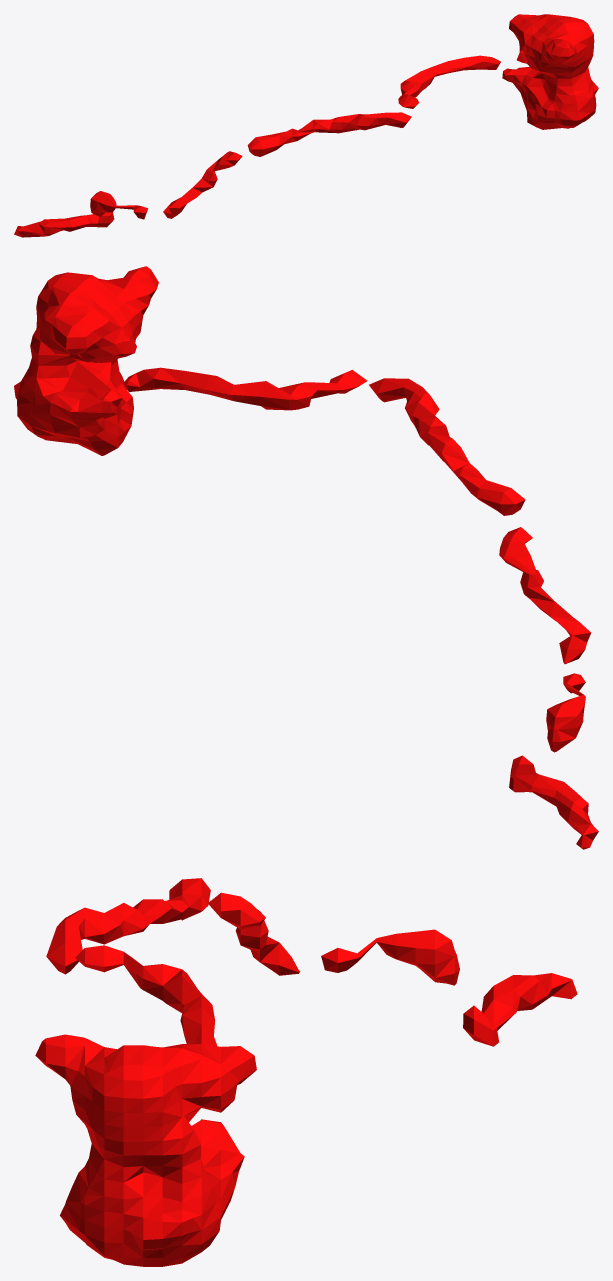
Rendered from pntA_coarse.dae.
3 renders of one model, top to bottom at view 1: azimuth 30°, elevation 25°; view 2: azimuth 150°, elevation 25°; view 3: azimuth 270°, elevation 25°, orthographic. The views are drawn at different scales.
Parts seen in each view (by area): view 1: pntA; view 2: pntA; view 3: pntA.
Boxes of the visible parts, x1,y1,x2,y2 form: pntA: (14, 14, 598, 237); pntA: (14, 266, 598, 849); pntA: (35, 878, 577, 1266).
Bounding box in the file's own units: 318 × 120 × 156.
